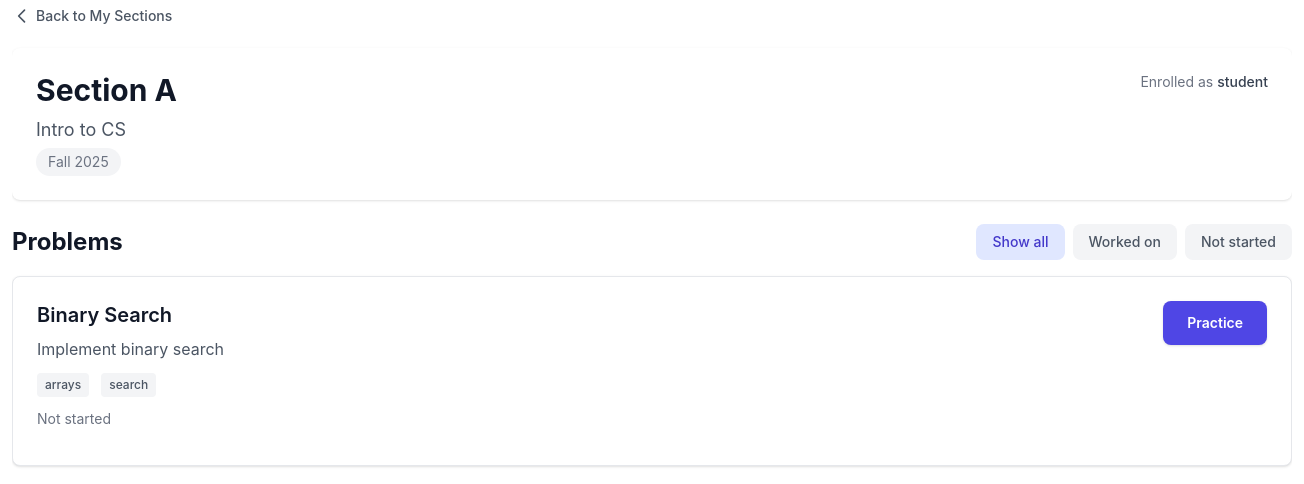
Test: SectionDetailPage › student view: problem-centric list › shows empty state when no problems match "Worked on" filter
# Click "Worked on" filter
Click the button "Worked on".
click(1125, 242)  # box [1072,224,1177,260]
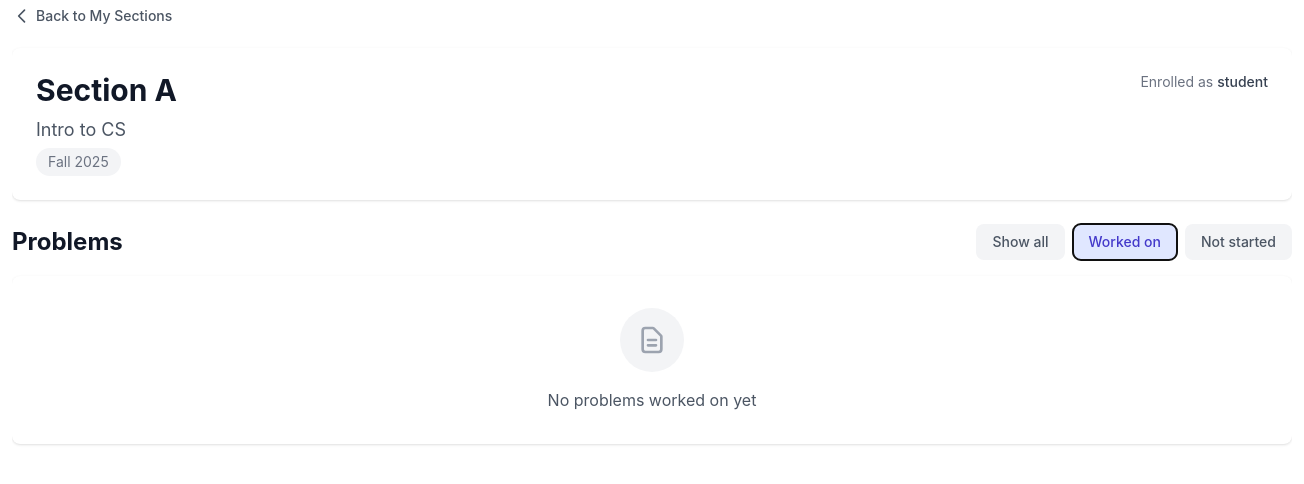
Expected: the text "No problems worked on yet" is shown, [548,390,756,410]
